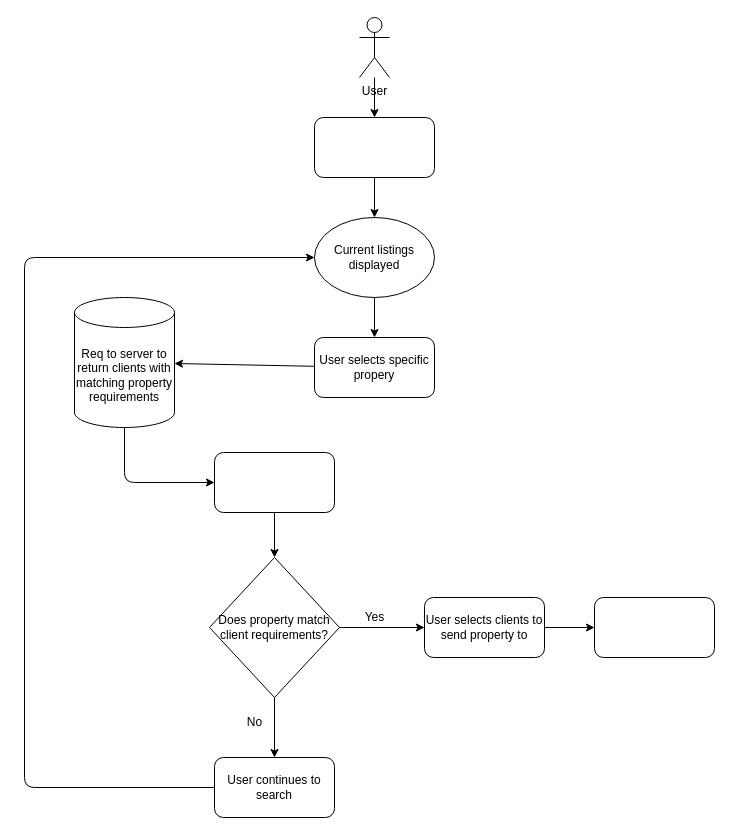
Image size: 732x835. Some labels were removed from this diagram. The shapes that lost their labels are listed below. From the top down, each one's centre as x and y in pixels, then its label:
At (374,147): "Property page".
At (274,482): "Property is displayed with matching clients below".
At (654,627): "User sends pre-generated SMS to clients with property link.".
